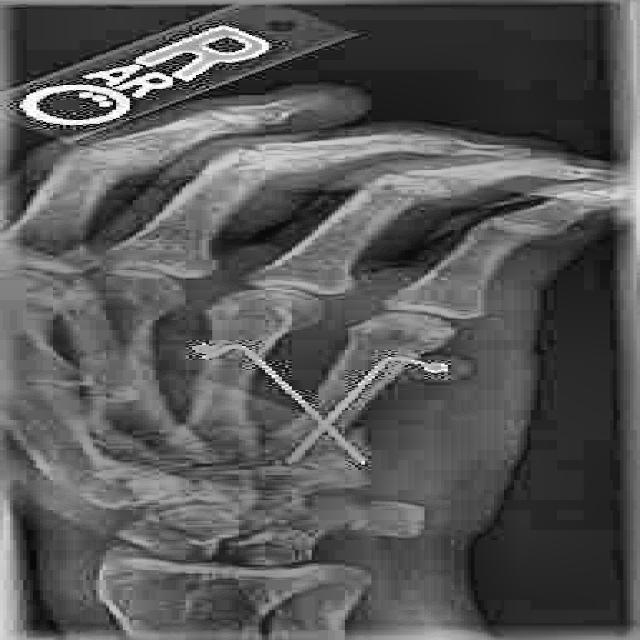fingers positive: (253, 402, 393, 455)
